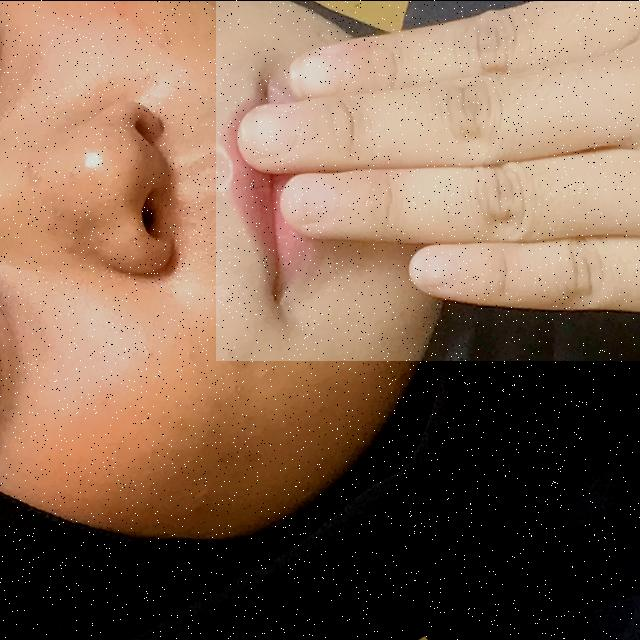ganteng: (216, 0, 640, 360)
